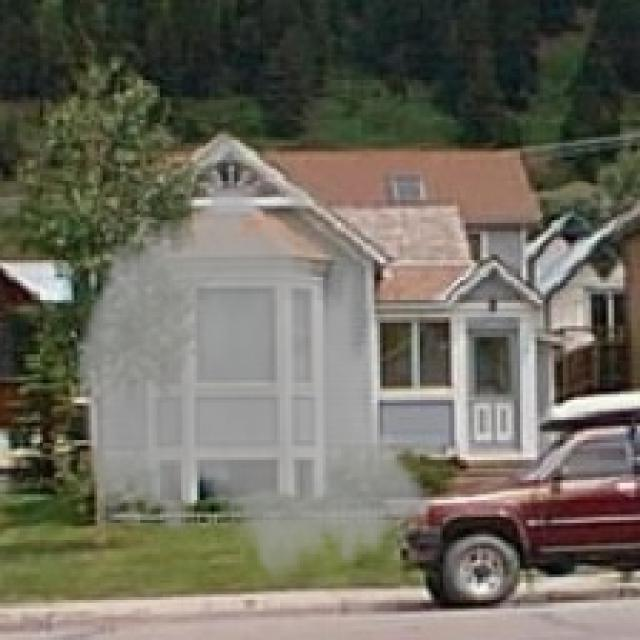Smoke: (72, 168, 437, 594)
